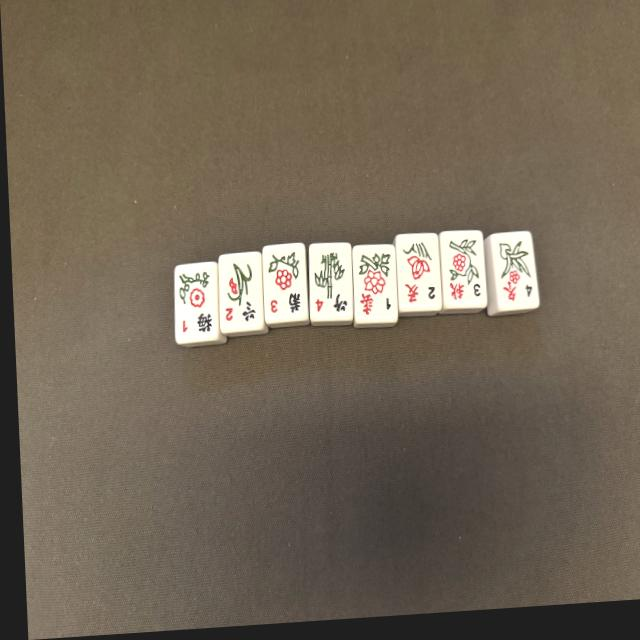f1: (174, 262, 223, 344)
f2: (220, 254, 264, 330)
f3: (262, 241, 311, 323)
f4: (307, 242, 356, 323)
ff1: (350, 243, 398, 324)
ff2: (395, 231, 442, 310)
ff3: (439, 228, 488, 309)
ff4: (487, 232, 538, 312)
